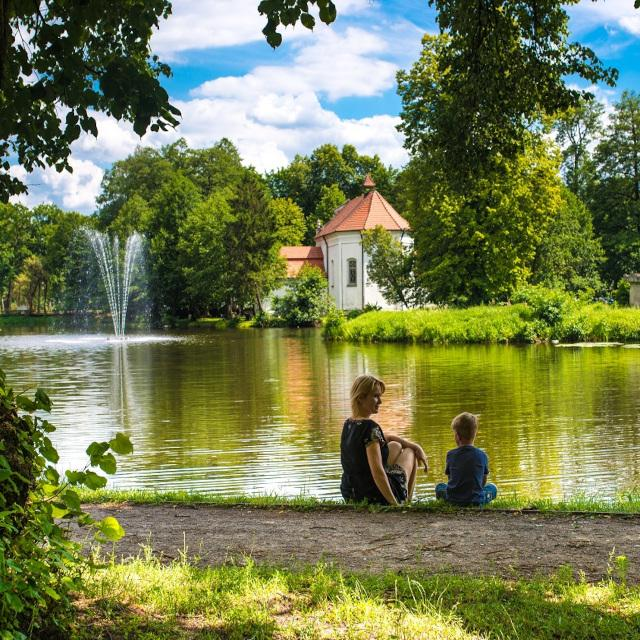kobieta: (340, 378, 426, 509)
mezczyzna: (437, 411, 497, 511)
